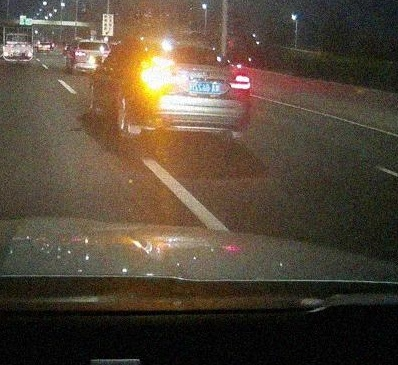L_light: (143, 70, 169, 84)
R_light: (230, 75, 250, 90)
T_light: (184, 46, 201, 50)
night-left: (140, 40, 251, 147)
